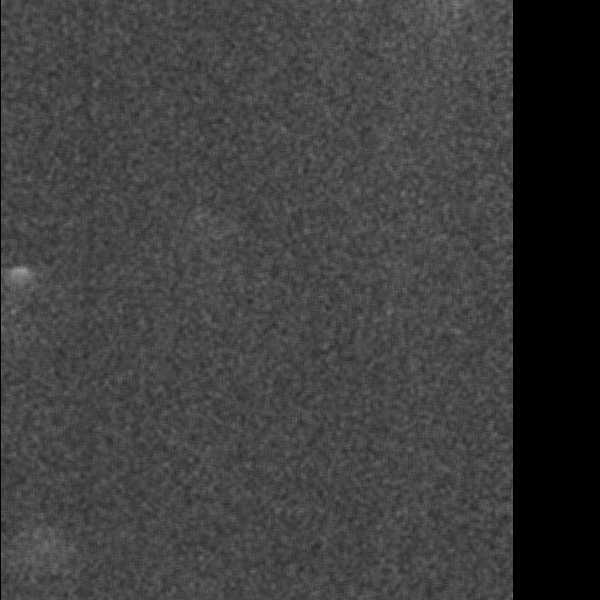spark: (1, 256, 42, 307)
